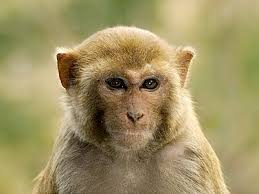monkey: (30, 13, 224, 188)
